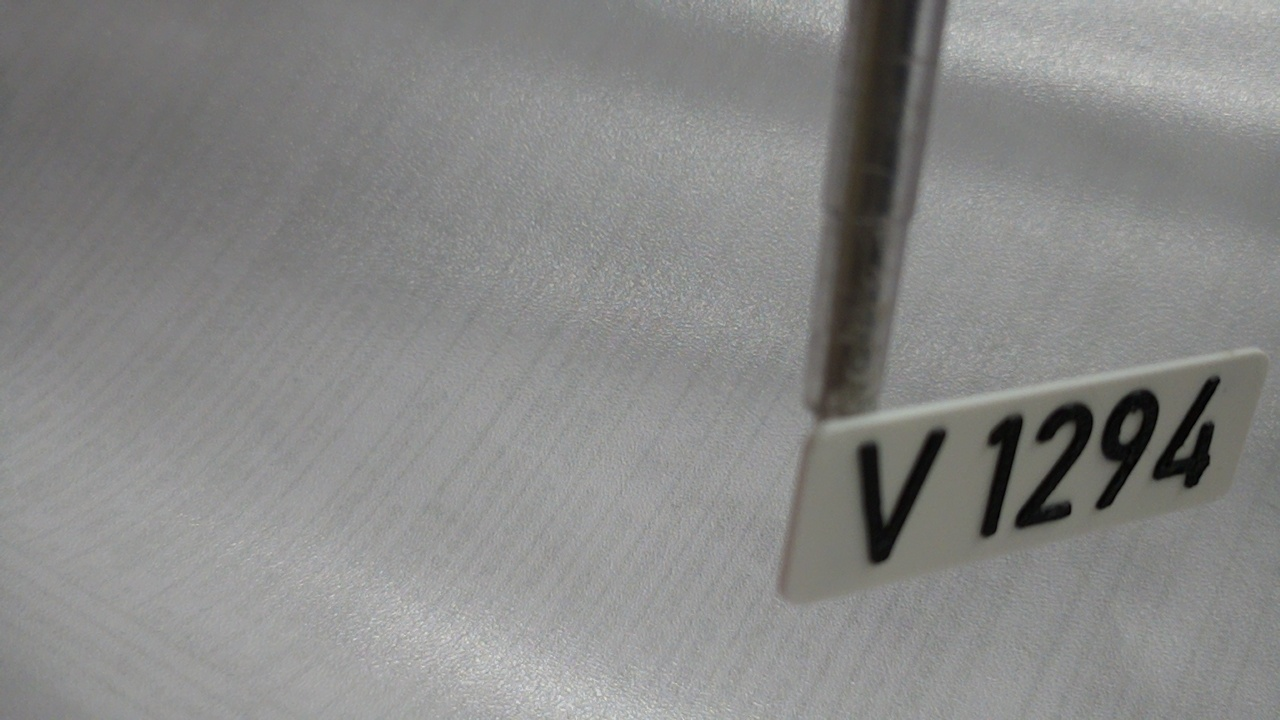license_plate: (774, 343, 1275, 608)
